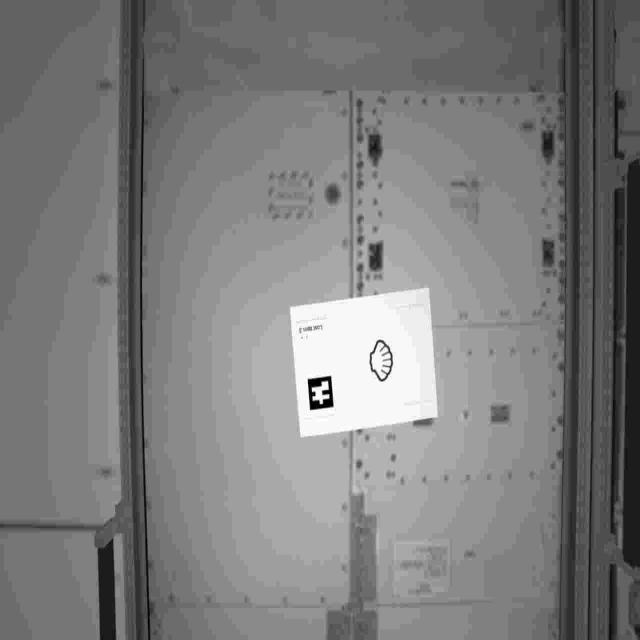shell: (359, 332, 406, 394)
